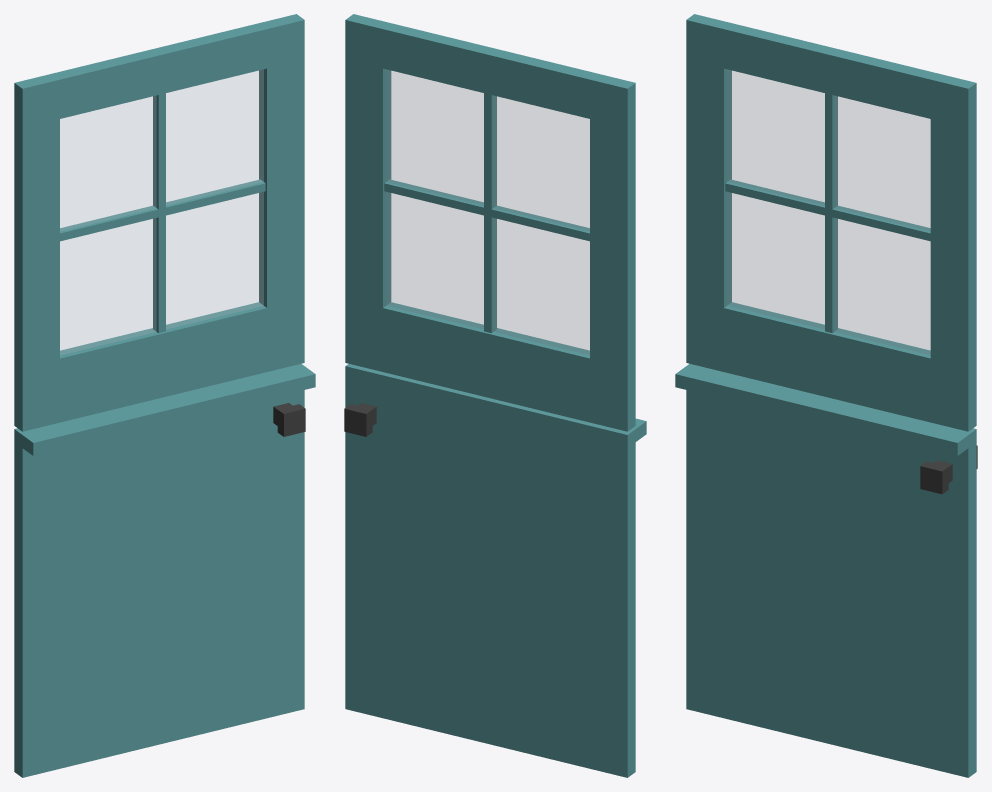
The model's file is mlo_door_stable_teal.glb.
3 renders of one model, left to right at view 1: azimuth 30°, elevation 25°; view 2: azimuth 150°, elevation 25°; view 3: azimuth 330°, elevation 25°, orthographic.
Visible parts, largest first — view 1: Door_Stable_Teal; view 2: Door_Stable_Teal; view 3: Door_Stable_Teal.
Part boxes in pixels (left/top/right/bottom): Door_Stable_Teal: left=14, top=14, right=315, bottom=777; Door_Stable_Teal: left=344, top=14, right=646, bottom=777; Door_Stable_Teal: left=675, top=14, right=977, bottom=777.
Bounding box in the file's own units: 0.9 × 2.1 × 0.195.
